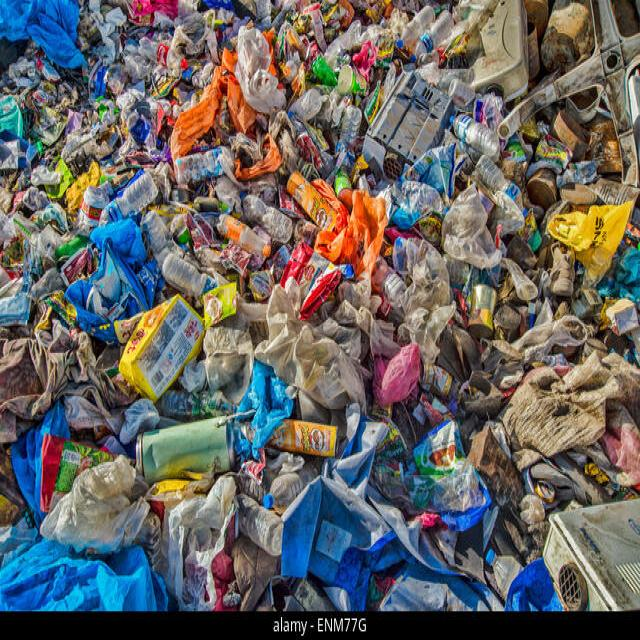plastic: (90, 182, 162, 222), (447, 115, 496, 158)
trash: (12, 29, 607, 587)
